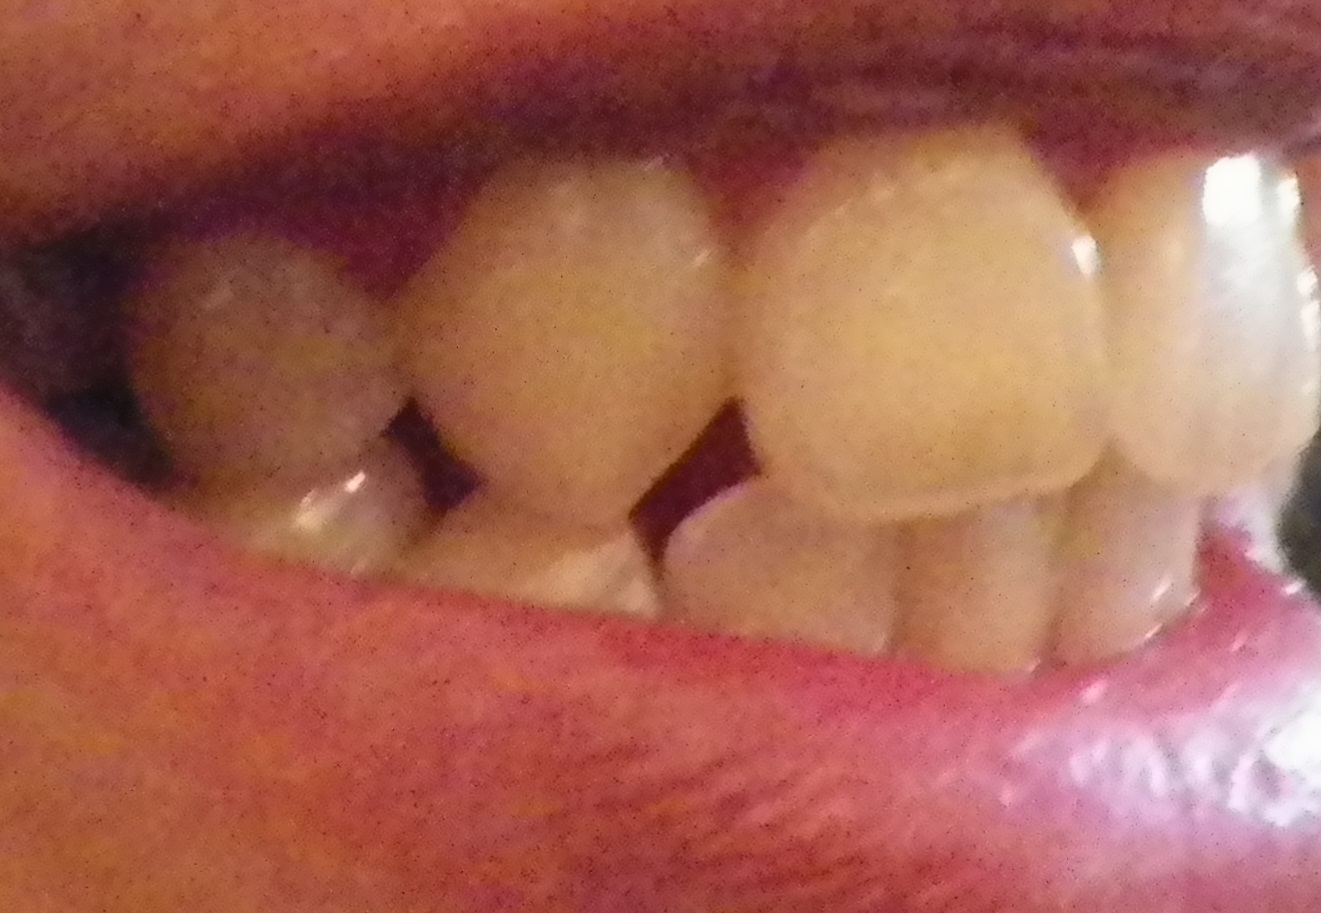boca: (100, 131, 1302, 676)
